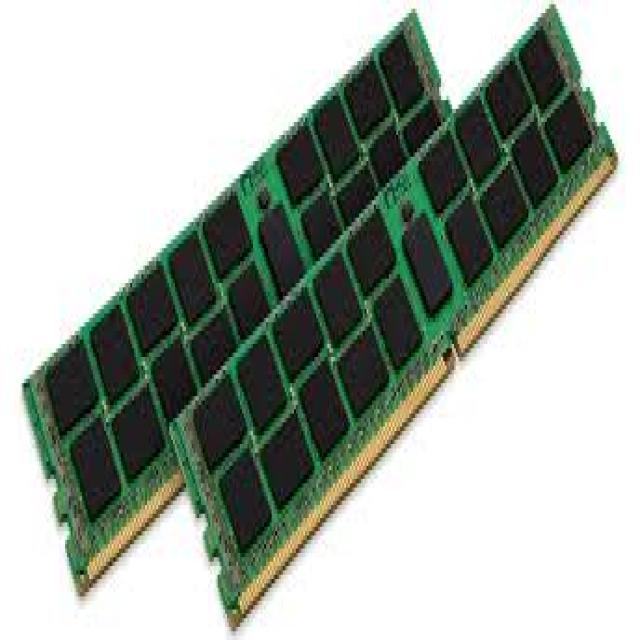Ram: (37, 89, 540, 535)
